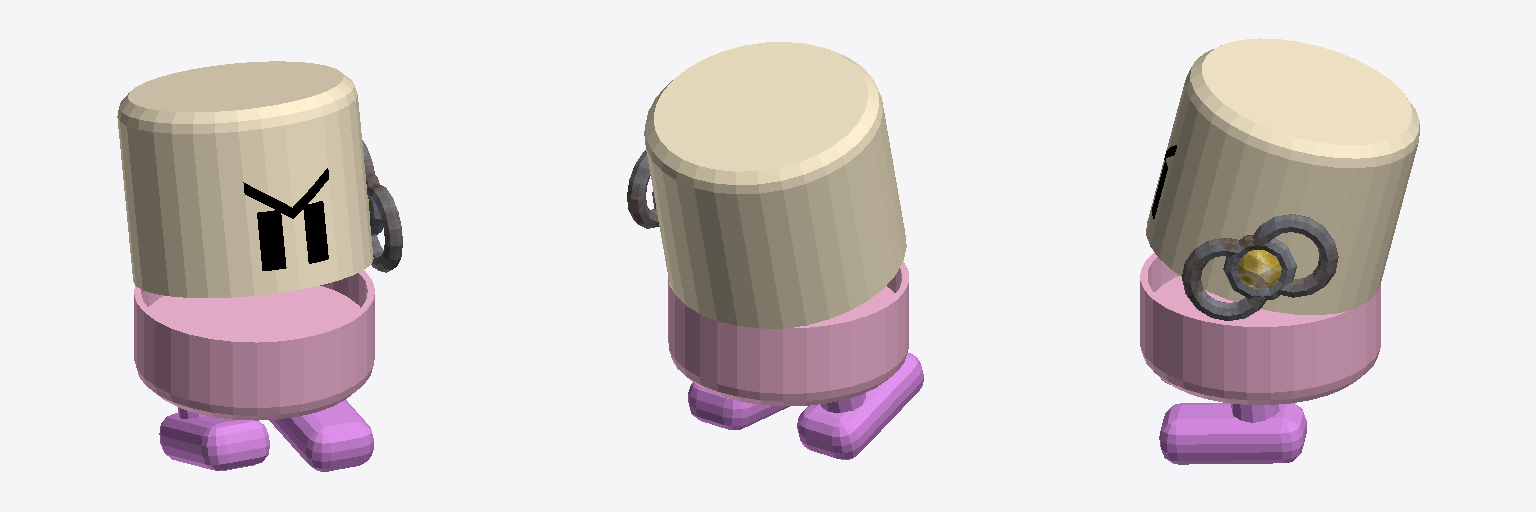
3 renders of one model, left to right at view 1: azimuth 30°, elevation 25°; view 2: azimuth 150°, elevation 25°; view 3: azimuth 270°, elevation 25°, orthographic.
Parts seen in each view (by area): view 1: Head, Jaw, RightLeg, LeftLeg, WindupKey; view 2: Head, Jaw, RightLeg, LeftLeg, WindupKey; view 3: Head, Jaw, WindupKey, LeftLeg.
Part boxes in pixels (left/top/right/bottom): Head: left=117, top=61, right=373, bottom=297; Jaw: left=134, top=270, right=374, bottom=420; RightLeg: left=159, top=407, right=269, bottom=470; LeftLeg: left=269, top=400, right=373, bottom=471; WindupKey: left=362, top=140, right=402, bottom=272; Head: left=644, top=42, right=906, bottom=328; Jaw: left=668, top=262, right=908, bottom=405; RightLeg: left=797, top=353, right=923, bottom=459; LeftLeg: left=688, top=382, right=789, bottom=429; WindupKey: left=627, top=150, right=659, bottom=228; Head: left=1146, top=38, right=1419, bottom=314; Jaw: left=1140, top=252, right=1380, bottom=404; WindupKey: left=1182, top=214, right=1338, bottom=320; LeftLeg: left=1159, top=403, right=1306, bottom=464.
Bounding box in the file's own units: 110 × 168 × 116.
6 materials, 2 textured.